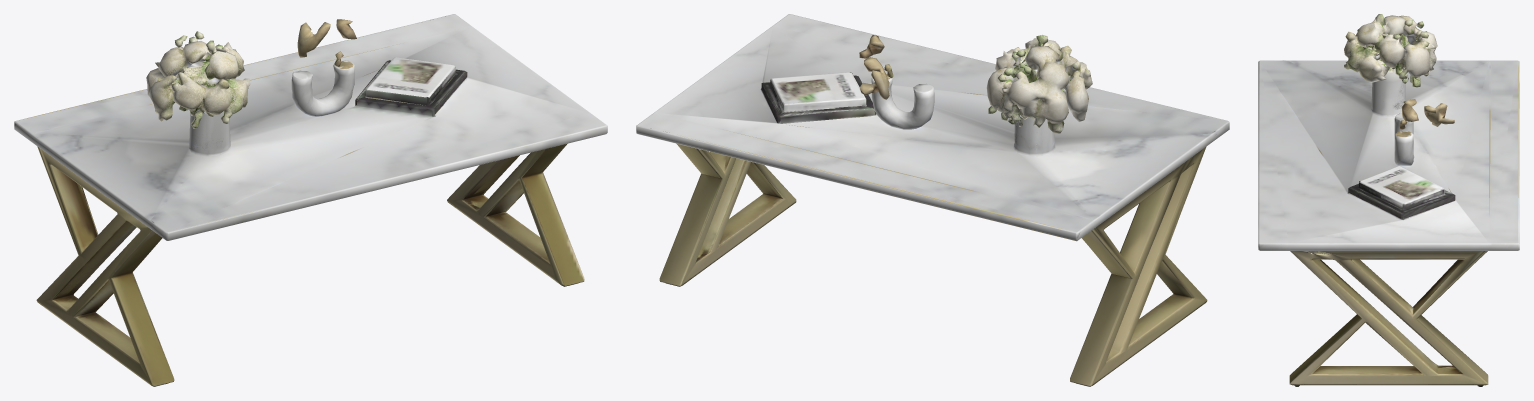
File: Table_Coffee_White_30InchesTall_0222191947_texture.glb
3 renders of one model, left to right at view 1: azimuth 30°, elevation 25°; view 2: azimuth 150°, elevation 25°; view 3: azimuth 270°, elevation 25°, orthographic. The views are drawn at different scales.
Visible parts, largest first — view 1: Mesh_0; view 2: Mesh_0; view 3: Mesh_0.
Boxes of the visible parts, <box> form: Mesh_0: <box>14,14,607,386</box>; Mesh_0: <box>636,14,1229,386</box>; Mesh_0: <box>1258,14,1519,386</box>.
Size of the model in its own units: 1.25 by 0.762 by 0.7492.
Materials: 1 (1 with a texture image).
